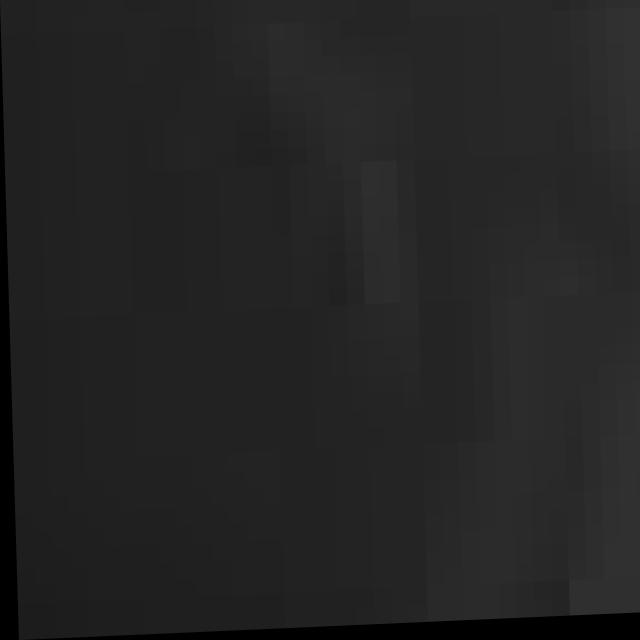fracture: (3, 0, 640, 633)
